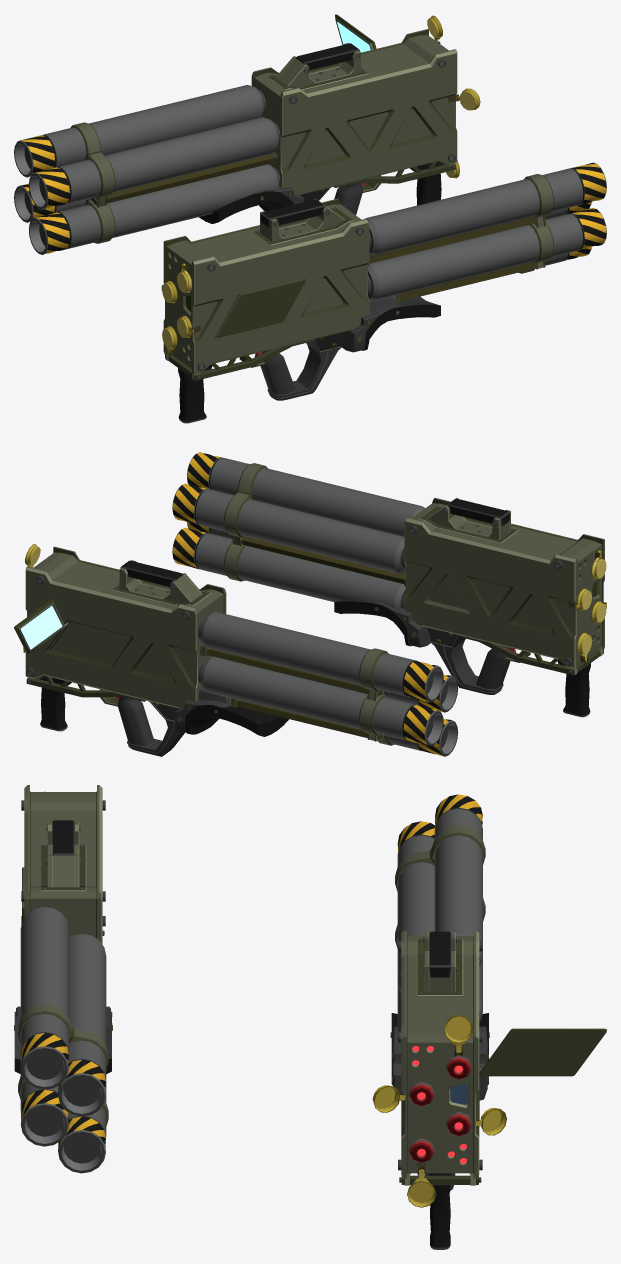
Rendered from 6_3RocketLauncher.fbx.
3 renders of one model, top to bottom at view 1: azimuth 30°, elevation 25°; view 2: azimuth 150°, elevation 25°; view 3: azimuth 270°, elevation 25°, orthographic. The views are drawn at different scales.
Parts seen in each view (by area): view 1: Cylinder.068, Cube.001, Cube, Cylinder.006, Monitor.(M), Cube.064, Cylinder.070, Cube.117, Cube.004, Cube.026, Cylinder.014, Cube.002 (+13 smaller); view 2: Cylinder.006, Cube, Cube.001, Cylinder.068, Cube.117, Cube.062, Cylinder.014, Cube.064, Monitor.009, Cube.004, Cylinder.070, Cube.057 (+16 smaller); view 3: Cylinder.006, Cube.001, Cylinder.068, Cube, Monitor.009, Cube.002, Cylinder.014, Cube.009, Cylinder.070, Cube.034, Cube.063, Cube.005 (+10 smaller).
Part boxes in pixels (x1,y1,x2,y2): Cylinder.068: (14,85,278,254); Cube.001: (251,29,457,195); Cube: (163,198,369,374); Cylinder.006: (365,162,606,300); Monitor.(M): (217,279,305,337); Cube.064: (369,217,535,301); Cylinder.070: (70,122,115,243); Cube.117: (91,154,272,205); Cube.004: (275,43,361,87); Cube.026: (267,344,340,400); Cylinder.014: (518,174,554,273); Cube.002: (259,198,344,241); Cylinder.006: (172,452,424,608); Cube: (404,498,604,669); Cube.001: (25,546,226,708); Cylinder.068: (200,611,458,756); Cube.117: (206,648,382,740); Cube.062: (185,705,288,736); Cylinder.014: (223,463,267,581); Cube.064: (241,536,405,583); Monitor.009: (14,600,64,653); Cube.004: (119,560,202,603); Cylinder.070: (359,648,394,745); Cube.057: (117,697,154,746); Cylinder.006: (20,907,106,1173); Cube.001: (401,930,479,1178); Cylinder.068: (397,794,482,1043); Cube: (24,785,102,944); Monitor.009: (479,1028,606,1076); Cube.002: (47,821,79,887); Cylinder.014: (18,1003,108,1125); Cube.009: (430,1173,450,1249); Cylinder.070: (395,825,485,948); Cube.034: (429,931,451,977); Cube.063: (393,1026,487,1100); Cube.005: (417,939,463,996).
Bounding box in the file's own units: 442 × 187 × 420.
